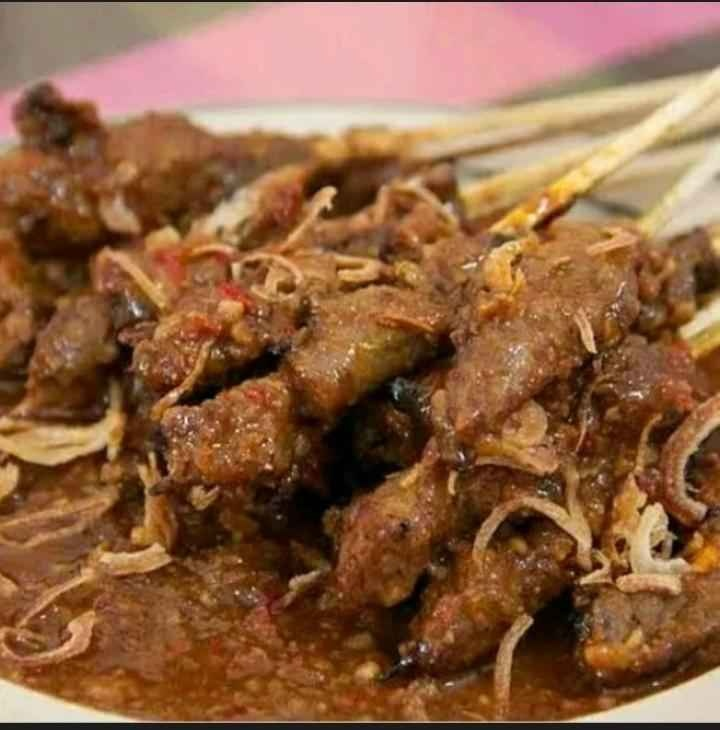sate_madura: (5, 89, 720, 685)
